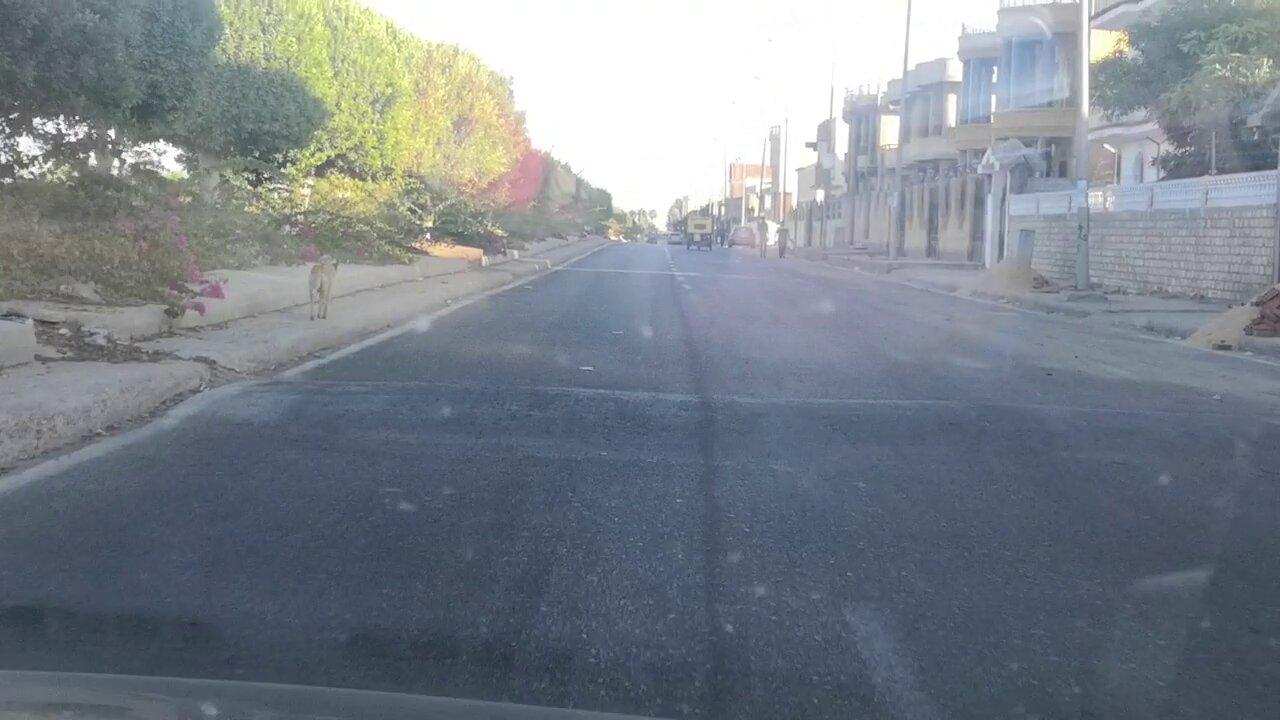Bump: (252, 370, 1280, 463)
